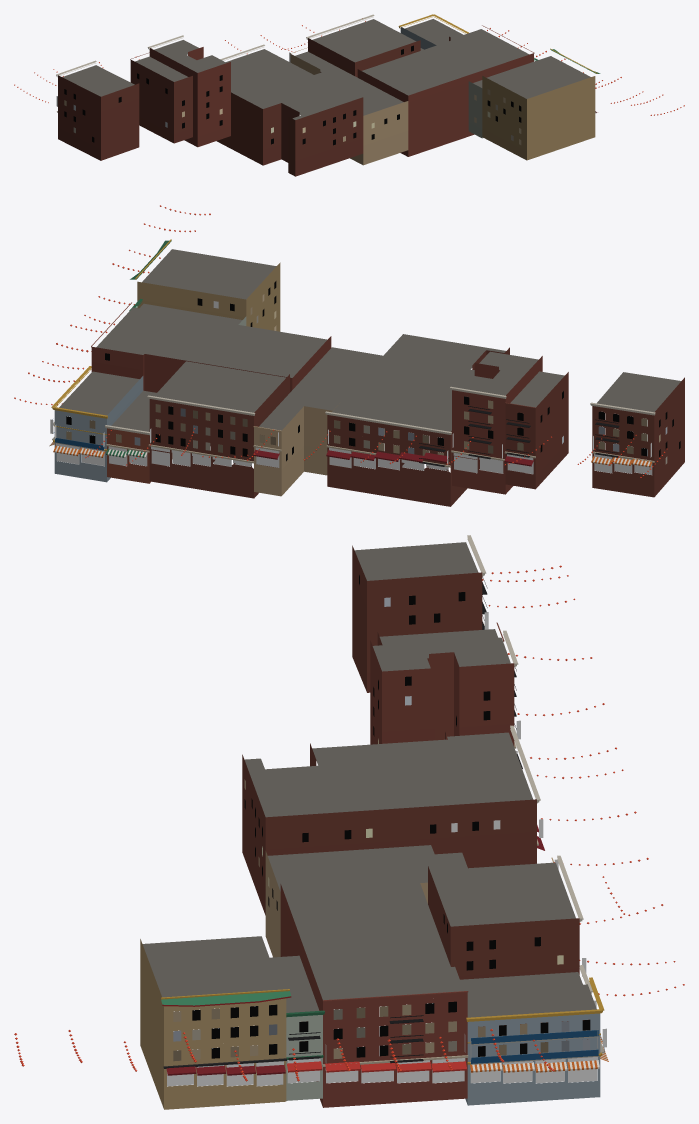
3 views of the same model, one above another, from view 1: azimuth 30°, elevation 25°; view 2: azimuth 150°, elevation 25°; view 3: azimuth 270°, elevation 25° (orthographic). The views are drawn at different scales.
Visible parts, largest first — view 1: L1_brickred, L1_roof, L1_d_stucco, L1_stucco, L1_brick, L1_d_brickred, L1_win, L1_stone, L1_lantern; view 2: L1_roof, L1_brickred, L1_stucco, L1_win, L1_brick, L1_shopint, L1_stone, L1_d_fabric, L1_d_brickred, L1_sign, L1_d_metal, L1_lantern; view 3: L1_roof, L1_brickred, L1_stucco, L1_win, L1_shopint, L1_d_fabric, L1_stone, L1_d_stucco, L1_d_paint, L1_sign, L1_lantern, L1_brick (+2 smaller).
Part boxes in pixels (<box>): L1_brickred: <box>58,36,533,176</box>; L1_roof: <box>62,19,590,119</box>; L1_d_stucco: <box>482,76,595,160</box>; L1_stucco: <box>400,27,526,160</box>; L1_brick: <box>290,54,408,165</box>; L1_d_brickred: <box>216,69,408,165</box>; L1_win: <box>64,45,521,145</box>; L1_stone: <box>56,14,596,112</box>; L1_lantern: <box>14,18,684,115</box>; L1_roof: <box>59,249,681,431</box>; L1_brickred: <box>91,346,684,506</box>; L1_stucco: <box>54,262,280,482</box>; L1_win: <box>66,281,680,464</box>; L1_brick: <box>254,403,354,496</box>; L1_shopint: <box>56,450,652,474</box>; L1_stone: <box>51,298,655,467</box>; L1_d_fabric: <box>49,442,652,467</box>; L1_d_brickred: <box>144,336,479,506</box>; L1_sign: <box>50,376,652,469</box>; L1_d_metal: <box>419,406,619,466</box>; L1_lantern: <box>14,205,667,477</box>; L1_roof: <box>142,542,596,1017</box>; L1_brickred: <box>242,545,579,1107</box>; L1_stucco: <box>164,998,600,1109</box>; L1_win: <box>173,575,590,1061</box>; L1_shopint: <box>167,1068,597,1086</box>; L1_d_fabric: <box>166,621,608,1075</box>; L1_stone: <box>163,535,604,1068</box>; L1_d_stucco: <box>140,939,467,1108</box>; L1_d_paint: <box>161,989,604,1064</box>; L1_sign: <box>196,612,606,1070</box>; L1_lantern: <box>14,565,684,1081</box>; L1_brick: <box>265,851,280,957</box>.
Bounding box in the file's own units: 157 × 34.55 × 101.
